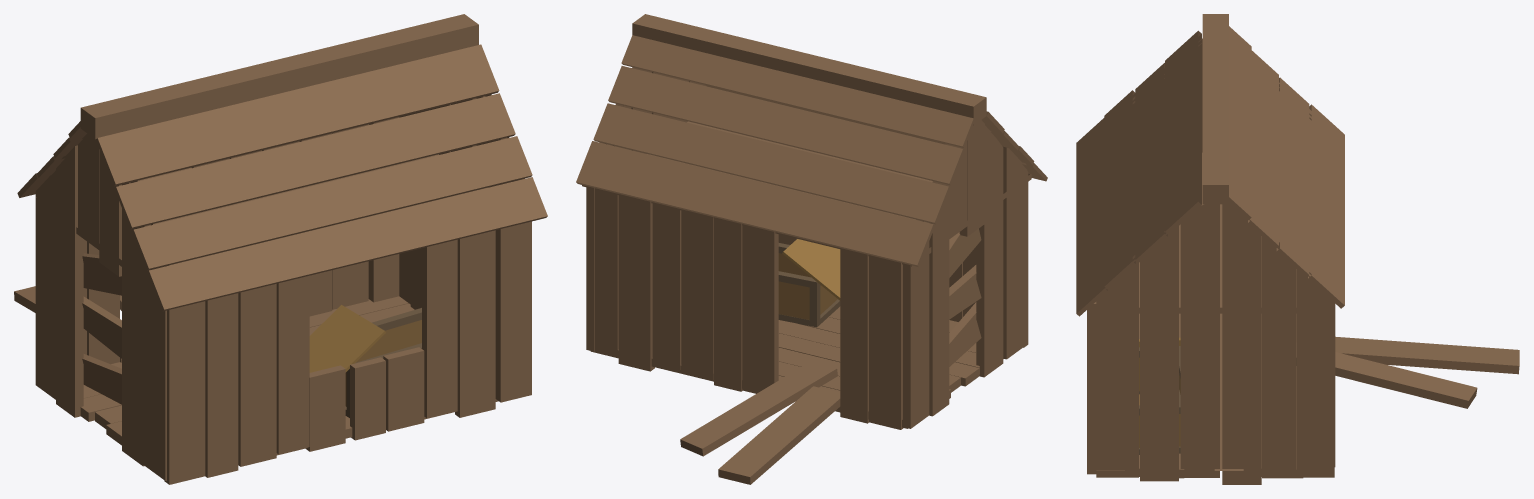
The model's file is дом.fbx.
3 renders of one model, left to right at view 1: azimuth 30°, elevation 25°; view 2: azimuth 150°, elevation 25°; view 3: azimuth 270°, elevation 25°, orthographic. The views are drawn at different scales.
Parts seen in each view (by area): view 1: Cube.048; view 2: Cube.048; view 3: Cube.048.
Boxes of the visible parts, x1,y1,x2,y2 form: Cube.048: [14, 14, 547, 484]; Cube.048: [576, 14, 1047, 484]; Cube.048: [1076, 14, 1519, 484].
Bounding box in the file's own units: 440 × 368 × 482.
